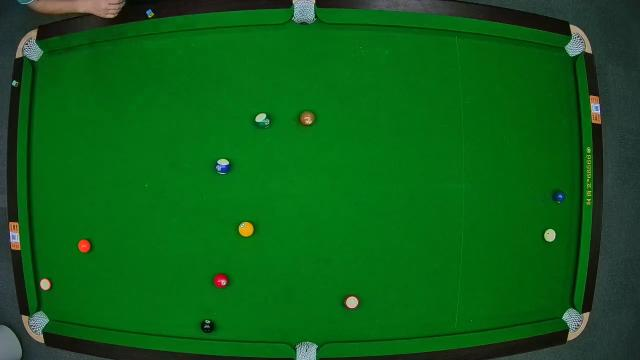bag1: (21, 39, 43, 61)
bag2: (293, 1, 315, 23)
bag3: (566, 33, 586, 57)
bag4: (28, 310, 50, 334)
bag5: (296, 340, 318, 360)
bag6: (561, 306, 583, 330)
ball0: (544, 229, 556, 243)
ball1: (239, 221, 255, 236)
ball10: (215, 158, 231, 175)
ball11: (345, 294, 359, 310)
ball12: (40, 277, 52, 291)
ball14: (255, 113, 272, 129)
ball2: (554, 189, 568, 205)
ball3: (214, 274, 228, 288)
ball5: (78, 239, 92, 253)
ball7: (300, 110, 316, 126)
ball8: (200, 320, 216, 334)
